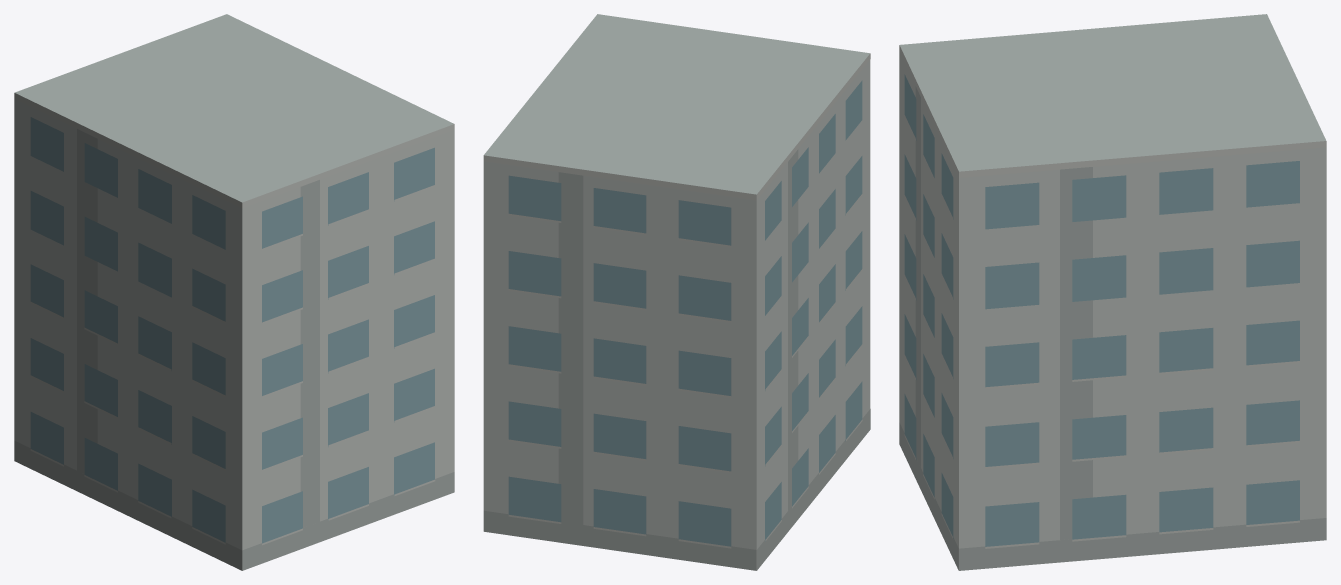
Rendered from residential-362bed17-718d-45a0-8a1a-b66227c1a446.glb.
3 views of the same model, side by side, from view 1: azimuth 30°, elevation 25°; view 2: azimuth 150°, elevation 25°; view 3: azimuth 270°, elevation 25° (orthographic). The views are drawn at different scales.
Visible parts, largest first — view 1: residential-362bed17-718d-45a0-8a1a-b66227c1a446.tmp; view 2: residential-362bed17-718d-45a0-8a1a-b66227c1a446.tmp; view 3: residential-362bed17-718d-45a0-8a1a-b66227c1a446.tmp.
Boxes of the visible parts, x1,y1,x2,y2 form: residential-362bed17-718d-45a0-8a1a-b66227c1a446.tmp: [14, 14, 454, 570]; residential-362bed17-718d-45a0-8a1a-b66227c1a446.tmp: [483, 14, 870, 570]; residential-362bed17-718d-45a0-8a1a-b66227c1a446.tmp: [899, 14, 1326, 570].
Bounding box in the file's own units: 12.92 × 15.25 × 14.79.
